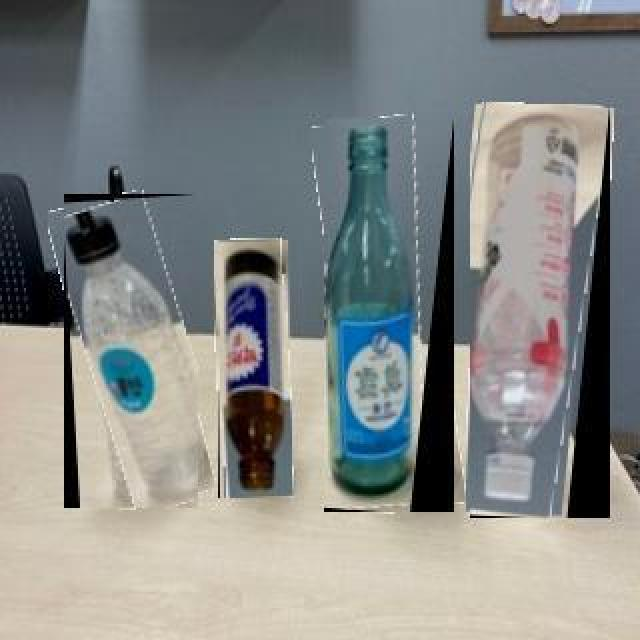bottle: (468, 104, 610, 520), (322, 118, 454, 514), (64, 194, 196, 510), (215, 240, 291, 500)
